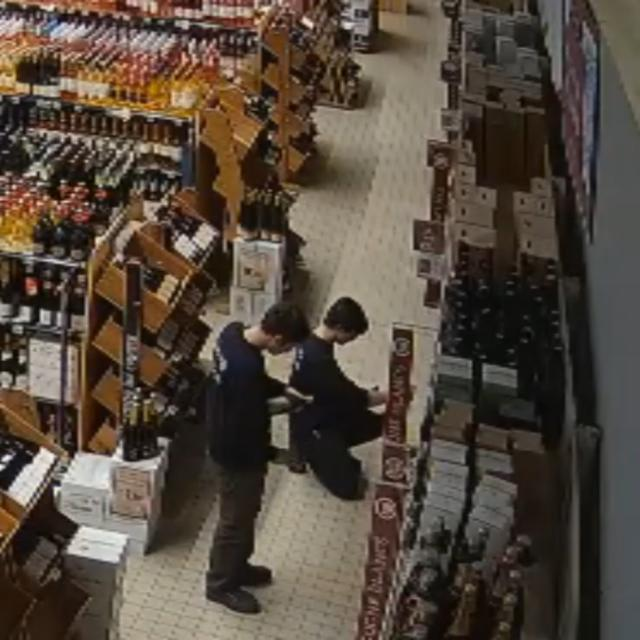article: (266, 395, 313, 416)
hands: (285, 387, 312, 411), (368, 389, 389, 407), (271, 448, 292, 465)
person: (207, 303, 310, 613), (290, 297, 387, 499)
